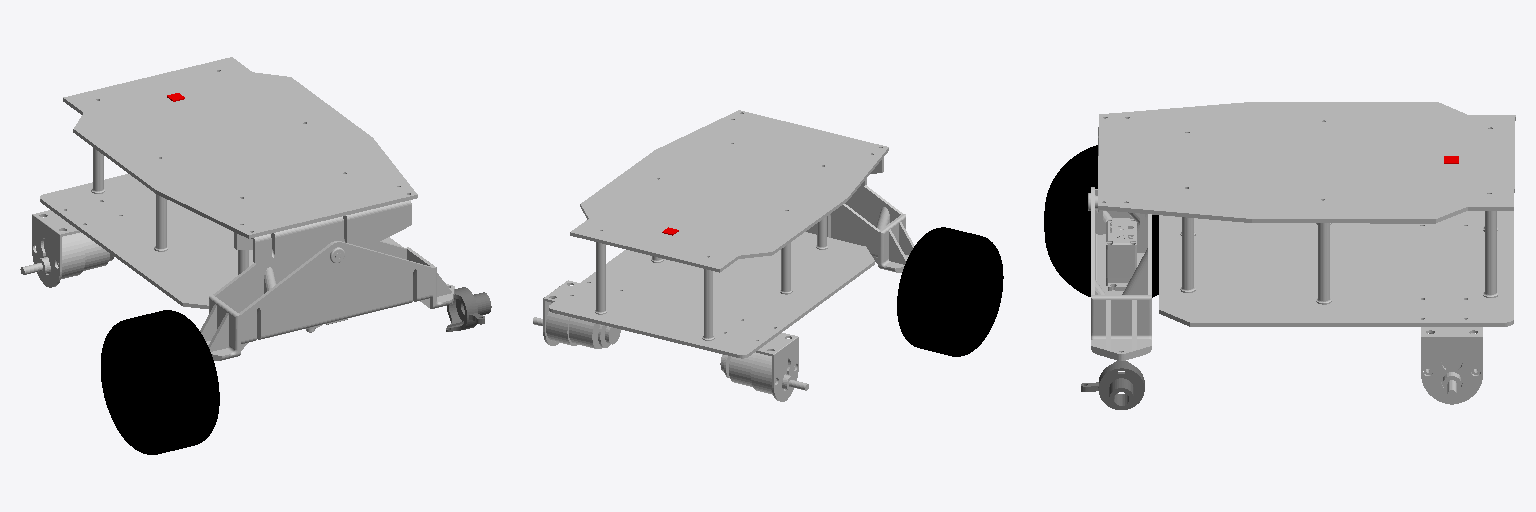
robot.urdf — Ackermann_robot:
<?xml version="1.0" ?>
<!-- =================================================================================== -->
<!-- |    This document was autogenerated by xacro from Ackermann_robot.urdf.xacro     | -->
<!-- |    EDITING THIS FILE BY HAND IS NOT RECOMMENDED                                 | -->
<!-- =================================================================================== -->
<robot name="Ackermann_robot">
  <!--<link name="base_link" />-->
  <!--<xacro:macro name="chassi_link" params="name">-->
  <!--</xacro:macro>-->
  <!--<xacro:chassi_link name="chassi_link"/>-->
  <material name="base_color">
    <color rgba="0.8 0.8 0.8 1.0"/>
  </material>
  <link name="base_link"/>
  <link name="chassi_link">
    <inertial>
      <origin rpy="0 0 0" xyz="0 0 0"/>
      <mass value="2.0"/>
      <inertia ixx="0.001" ixy="0" ixz="0" iyy="0.001" iyz="0" izz="0.001"/>
    </inertial>
    <visual name="Base">
      <origin rpy="0 -3.14159 -0.00587" xyz="-0.00055 -0.06897 0.06435"/>
      <geometry>
        <mesh filename="package://ackermann_vehicle_description/robot/meshes/stl/Base.stl" scale="1.0 1.0 1.0"/>
      </geometry>
      <material name="base_color"/>
    </visual>
    <collision name="Base_col">
      <origin rpy="0 3.14159 -0.00587" xyz="-0.00102 -0.09748 0.0092"/>
      <geometry>
        <box size="0.22043 0.27703 0.12452"/>
      </geometry>
    </collision>
  </link>
  <link name="base_link_front">
    </link>
  <joint name="chassi_link_joint" type="fixed">
    <origin rpy="0 0 0" xyz="0 0 0"/>
    <parent link="base_link"/>
    <child link="chassi_link"/>
  </joint>
  <joint name="base_link_front_joint" type="fixed">
    <origin rpy="0 0 0" xyz="0 -0.21396 0"/>
    <parent link="base_link"/>
    <child link="base_link_front"/>
  </joint>
  <material name="pneu_color">
    <color rgba="0.0 0.0 0.0 1.0"/>
  </material>
  <link name="link_wheel_front_left">
    <inertial>
      <origin rpy="0 0 0" xyz="0 0 0"/>
      <mass value="0.15"/>
      <inertia ixx="0.001" ixy="0" ixz="0" iyy="0.001" iyz="0" izz="0.001"/>
    </inertial>
    <visual name="wheel_front_left">
      <origin rpy="-1.57081 2e-05 -2.01041" xyz="0 0 0"/>
      <geometry>
        <mesh filename="package://ackermann_vehicle_description/robot/meshes/stl/wheel_front_left.stl" scale="1.0 1.0 1.0"/>
      </geometry>
      <material name="pneu_color"/>
    </visual>
    <collision name="wheel_front_left_col">
      <origin rpy="-1e-05 2e-05 -2.01041" xyz="0 0 0"/>
      <geometry>
        <cylinder length="0.05" radius="0.05"/>
      </geometry>
    </collision>
  </link>
  <link name="link_wheel_front_right">
    <inertial>
      <origin rpy="0 0 0" xyz="0 0 0"/>
      <mass value="0.15"/>
      <inertia ixx="0.001" ixy="0" ixz="0" iyy="0.001" iyz="0" izz="0.001"/>
    </inertial>
    <visual name="wheel_front_right">
      <origin rpy="-1.57079 -2e-05 -2.01041" xyz="0 0 0"/>
      <geometry>
        <mesh filename="package://ackermann_vehicle_description/robot/meshes/stl/wheel_front_right.stl" scale="1.0 1.0 1.0"/>
      </geometry>
      <material name="pneu_color"/>
    </visual>
    <collision name="wheel_front_right_col">
      <origin rpy="1e-05 -2e-05 -2.01041" xyz="0 0 0"/>
      <geometry>
        <cylinder length="0.05" radius="0.05"/>
      </geometry>
    </collision>
  </link>
  <link name="link_wheel_rear_left">
    <inertial>
      <origin rpy="0 0 0" xyz="0 0 0"/>
      <mass value="0.15"/>
      <inertia ixx="0.001" ixy="0" ixz="0" iyy="0.001" iyz="0" izz="0.001"/>
    </inertial>
    <visual name="wheel_rear_left">
      <origin rpy="-1.5708 0 1.47321" xyz="0 0 0"/>
      <geometry>
        <mesh filename="package://ackermann_vehicle_description/robot/meshes/stl/wheel_rear_left.stl" scale="1.0 1.0 1.0"/>
      </geometry>
      <material name="pneu_color"/>
    </visual>
    <collision name="wheel_rear_left_col">
      <origin rpy="0 0 1.47321" xyz="0 0 0"/>
      <geometry>
        <cylinder length="0.05" radius="0.05"/>
      </geometry>
    </collision>
  </link>
  <link name="link_wheel_rear_right">
    <inertial>
      <origin rpy="0 0 0" xyz="0 0 0"/>
      <mass value="0.15"/>
      <inertia ixx="0.001" ixy="0" ixz="0" iyy="0.001" iyz="0" izz="0.001"/>
    </inertial>
    <visual name="wheel_rear_right">
      <origin rpy="-1.5708 0 -1.61495" xyz="0 0 0"/>
      <geometry>
        <mesh filename="package://ackermann_vehicle_description/robot/meshes/stl/wheel_rear_right.stl" scale="1.0 1.0 1.0"/>
      </geometry>
      <material name="pneu_color"/>
    </visual>
    <collision name="wheel_rear_right_col">
      <origin rpy="0 0 -1.61495" xyz="0 0 0"/>
      <geometry>
        <cylinder length="0.05" radius="0.05"/>
      </geometry>
    </collision>
  </link>
  <!--<link name="link_wheel_front_left">
      <inertial>
        <origin xyz="0 0 0" rpy="0 0 0"/>
        <mass value="0.15"/>
        <inertia ixx="0.001" ixy="0" ixz="0" iyy="0.001" iyz="0" izz="0.001"/>
      </inertial>
      <visual name="wheel_front_left">
        <origin xyz="0 0 0" rpy="-1.57081 2e-05 -2.01041"/>
        <geometry>
          <mesh filename="package://urdf_tutorial/robot/meshes/stl/wheel_front_left.stl" scale="1.0 1.0 1.0"/>
        </geometry>
        <material name="pneu_color"/>
      </visual>
      <collision name="wheel_front_left">
        <origin xyz="0 0 0" rpy="-1e-05 2e-05 -2.01041"/>
        <geometry>
          <cylinder radius="0.05" length="0.05"/>
        </geometry>
      </collision>
    </link>

    <link name="link_wheel_front_right">
      <inertial>
        <origin xyz="0 0 0" rpy="0 0 0"/>
        <mass value="0.15"/>
        <inertia ixx="0.001" ixy="0" ixz="0" iyy="0.001" iyz="0" izz="0.001"/>
      </inertial>
      <visual name="wheel_front_right">
        <origin xyz="0 0 0" rpy="-1.57079 -2e-05 -2.01041"/>
        <geometry>
          <mesh filename="package://urdf_tutorial/robot/meshes/stl/wheel_front_right.stl" scale="1.0 1.0 1.0"/>
        </geometry>
        <material name="pneu_color"/>
      </visual>
      <collision name="wheel_front_right">
        <origin xyz="0 0 0" rpy="1e-05 -2e-05 -2.01041"/>
        <geometry>
          <cylinder radius="0.05" length="0.05"/>
        </geometry>
      </collision>
    </link>

    <link name="link_wheel_rear_left">
      <inertial>
        <origin xyz="0 0 0" rpy="0 0 0"/>
        <mass value="0.15"/>
        <inertia ixx="0.001" ixy="0" ixz="0" iyy="0.001" iyz="0" izz="0.001"/>
      </inertial>
      <visual name="wheel_rear_left">
        <origin xyz="0 0 0" rpy="-1.5708 0 1.47321"/>
        <geometry>
          <mesh filename="package://urdf_tutorial/robot/meshes/stl/wheel_rear_left.stl" scale="1.0 1.0 1.0"/>
        </geometry>
        <material name="pneu_color"/>
      </visual>
      <collision name="wheel_rear_left">
        <origin xyz="0 0 0" rpy="0 0 1.47321"/>
        <geometry>
          <cylinder radius="0.05" length="0.05"/>
        </geometry>
      </collision>
    </link>

    <link name="link_wheel_rear_right">
      <inertial>
        <origin xyz="0 0 0" rpy="0 0 0"/>
        <mass value="0.15"/>
        <inertia ixx="0.001" ixy="0" ixz="0" iyy="0.001" iyz="0" izz="0.001"/>
      </inertial>
      <visual name="wheel_rear_right">
        <origin xyz="0 0 0" rpy="-1.5708 0 -1.61495"/>
        <geometry>
          <mesh filename="package://urdf_tutorial/robot/meshes/stl/wheel_rear_right.stl" scale="1.0 1.0 1.0"/>
        </geometry>
        <material name="pneu_color"/>
      </visual>
      <collision name="wheel_rear_right">
        <origin xyz="0 0 0" rpy="0 0 -1.61495"/>
        <geometry>
          <cylinder radius="0.05" length="0.05"/>
        </geometry>
      </collision>
    </link>-->
  <joint name="joint_wheel_front_left" type="continuous">
    <origin rpy="0 1.5708 0" xyz="0.03048 0 0"/>
    <parent link="link_acker_front_left"/>
    <child link="link_wheel_front_left"/>
    <axis xyz="0 0 1.0"/>
    <limit effort="1.0" velocity="100.0"/>
  </joint>
  <joint name="joint_wheel_front_right" type="continuous">
    <origin rpy="0 -1.5708 0" xyz="-0.03049 0 0"/>
    <parent link="link_acker_front_right"/>
    <child link="link_wheel_front_right"/>
    <axis xyz="0 0 1.0"/>
    <limit effort="1.0" velocity="100.0"/>
  </joint>
  <joint name="joint_wheel_rear_left" type="continuous">
    <origin rpy="0 1.5708 0" xyz="0.13691 0.00033 -0.0371"/>
    <parent link="base_link"/>
    <child link="link_wheel_rear_left"/>
    <axis xyz="0 0 1.0"/>
    <limit effort="1.0" velocity="100.0"/>
  </joint>
  <joint name="joint_wheel_rear_right" type="continuous">
    <origin rpy="0 -1.5708 0" xyz="-0.13691 0.00033 -0.0371"/>
    <parent link="base_link"/>
    <child link="link_wheel_rear_right"/>
    <axis xyz="0 0 1.0"/>
    <limit effort="1.0" velocity="100.0"/>
  </joint>
  <!--<joint name="joint_wheel_front_left" type="continuous">
      <origin xyz="0.03048 0 0" rpy="0 1.5708 0"/>
      <parent link="link_acker_front_left"/>
      <child link="link_wheel_front_left"/>
      <axis xyz="0 0 1.0"/>
      <limit effort="1.0" velocity="100.0"/>
    </joint>

    <joint name="joint_wheel_front_right" type="continuous">
      <origin xyz="-0.03049 0 0" rpy="0 -1.5708 0"/>
      <parent link="link_acker_front_right"/>
      <child link="link_wheel_front_right"/>
      <axis xyz="0 0 1.0"/>
      <limit effort="1.0" velocity="100.0"/>
    </joint>

    <joint name="joint_wheel_rear_left" type="continuous">
      <origin xyz="0.13691 0.00033 -0.0371" rpy="0 1.5708 0"/>
      <parent link="base_link"/>
      <child link="link_wheel_rear_left"/>
      <axis xyz="0 0 1.0"/>
      <limit effort="1.0" velocity="100.0"/>
    </joint>

    <joint name="joint_wheel_rear_right" type="continuous">
      <origin xyz="-0.13691 0.00033 -0.0371" rpy="0 -1.5708 0"/>
      <parent link="base_link"/>
      <child link="link_wheel_rear_right"/>
      <axis xyz="0 0 1.0"/>
      <limit effort="1.0" velocity="100.0"/>
    </joint>-->
  <material name="link_roda_color">
    <color rgba="0.5 0.5 0.5 1.0"/>
  </material>
  <link name="link_acker_front_left">
    <inertial>
      <origin rpy="0 0 0" xyz="0 0 0"/>
      <mass value="0.15"/>
      <inertia ixx="0.002" ixy="0" ixz="0" iyy="0.002" iyz="0" izz="0.002"/>
    </inertial>
    <visual name="encaixe_front_left">
      <origin rpy="0 3.14159 -2e-05" xyz="0.03048 0 0"/>
      <geometry>
        <mesh filename="package://ackermann_vehicle_description/robot/meshes/stl/encaixe_front_left.stl" scale="1.0 1.0 1.0"/>
      </geometry>
      <material name="link_roda_color"/>
    </visual>
  </link>
  <link name="link_acker_front_right">
    <inertial>
      <origin rpy="0 0 0" xyz="0 0 0"/>
      <mass value="0.15"/>
      <inertia ixx="0.002" ixy="0" ixz="0" iyy="0.002" iyz="0" izz="0.002"/>
    </inertial>
    <visual name="encaixe_front_right">
      <origin rpy="0 0 -2e-05" xyz="-0.03049 0 0"/>
      <geometry>
        <mesh filename="package://ackermann_vehicle_description/robot/meshes/stl/encaixe_front_right.stl" scale="1.0 1.0 1.0"/>
      </geometry>
      <material name="link_roda_color"/>
    </visual>
  </link>
  <joint name="joint_acker_front_left" type="revolute">
    <origin rpy="0 0 0" xyz="0.10378 -0.21397 -0.0371"/>
    <parent link="base_link"/>
    <child link="link_acker_front_left"/>
    <axis xyz="0 0 1.0"/>
    <limit effort="5.0" lower="-3.14" upper="3.14" velocity="15.0"/>
  </joint>
  <joint name="joint_acker_front_right" type="revolute">
    <origin rpy="0 0 0" xyz="-0.10624 -0.21396 -0.0371"/>
    <parent link="base_link"/>
    <child link="link_acker_front_right"/>
    <axis xyz="0 0 1.0"/>
    <limit effort="5.0" lower="-3.14" upper="3.14" velocity="15.0"/>
  </joint>
  <material name="imu_color">
    <color rgba="1.0 0.0 0.0 1.0"/>
  </material>
  <link name="imu_link">
    <inertial>
      <origin rpy="0 0 0" xyz="0 0 0"/>
      <mass value="0.001"/>
      <inertia ixx="0.000001" ixy="0" ixz="0" iyy="0.000001" iyz="0" izz="0.000001"/>
    </inertial>
    <visual name="imu">
      <origin rpy="0 0 0" xyz="0 0 0.0005"/>
      <geometry>
        <box size="0.01 0.01 0.001"/>
      </geometry>
      <material name="imu_color"/>
    </visual>
    <collision name="imu_col">
      <origin rpy="0 0 0" xyz="0 0 0.0005"/>
      <geometry>
        <box size="0.01 0.01 0.001"/>
      </geometry>
    </collision>
  </link>
  <joint name="imu_joint" type="fixed">
    <origin rpy="0 0 0" xyz="0 0 0.07077"/>
    <parent link="base_link"/>
    <child link="imu_link"/>
  </joint>
  <!--transmissões dos tornos-->
  <transmission name="acker_front_left_trans">
    <type>transmission_interface/SimpleTransmission</type>
    <actuator name="$acker_front_left_servo">
      <hardwareInterface>hardware_interface/EffortJointInterface</hardwareInterface>
      <mechanicalReduction>1</mechanicalReduction>
    </actuator>
    <joint name="joint_acker_front_left">
      <hardwareInterface>hardware_interface/EffortJointInterface</hardwareInterface>
    </joint>
  </transmission>
  <transmission name="acker_front_right_trans">
    <type>transmission_interface/SimpleTransmission</type>
    <actuator name="$acker_front_right_servo">
      <hardwareInterface>hardware_interface/EffortJointInterface</hardwareInterface>
      <mechanicalReduction>1</mechanicalReduction>
    </actuator>
    <joint name="joint_acker_front_right">
      <hardwareInterface>hardware_interface/EffortJointInterface</hardwareInterface>
    </joint>
  </transmission>
  <gazebo reference="link_acker_front_left">
    <material>Gazebo/Black</material>
  </gazebo>
  <gazebo reference="link_acker_front_right">
    <material>Gazebo/Black</material>
  </gazebo>
  <gazebo reference="imu_link">
    <visual>
      <material>
        <script>
          <uri>file:/[local-path]/scripts/gazebo.material</uri>
          <name>Gazebo/Black</name>
        </script>
        <emissive>0 0 0 1</emissive>
      </material>
    </visual>
  </gazebo>
  <!--transmissões das rodas-->
  <transmission name="front_left_wheel_trans">
    <type>transmission_interface/SimpleTransmission</type>
    <actuator name="front_left_wheel_motor">
      <hardwareInterface>hardware_interface/EffortJointInterface</hardwareInterface>
      <mechanicalReduction>1</mechanicalReduction>
    </actuator>
    <joint name="joint_wheel_front_left">
      <hardwareInterface>hardware_interface/EffortJointInterface</hardwareInterface>
    </joint>
  </transmission>
  <gazebo reference="link_wheel_front_left">
    <mu1 value="200.0"/>
    <mu2 value="100.0"/>
    <kp value="10000000.0"/>
    <kd value="1.0"/>
    <material>Gazebo/Black</material>
  </gazebo>
  <transmission name="front_right_wheel_trans">
    <type>transmission_interface/SimpleTransmission</type>
    <actuator name="front_right_wheel_motor">
      <hardwareInterface>hardware_interface/EffortJointInterface</hardwareInterface>
      <mechanicalReduction>1</mechanicalReduction>
    </actuator>
    <joint name="joint_wheel_front_right">
      <hardwareInterface>hardware_interface/EffortJointInterface</hardwareInterface>
    </joint>
  </transmission>
  <gazebo reference="link_wheel_front_right">
    <mu1 value="200.0"/>
    <mu2 value="100.0"/>
    <kp value="10000000.0"/>
    <kd value="1.0"/>
    <material>Gazebo/Black</material>
  </gazebo>
  <transmission name="rear_left_wheel_trans">
    <type>transmission_interface/SimpleTransmission</type>
    <actuator name="rear_left_wheel_motor">
      <hardwareInterface>hardware_interface/EffortJointInterface</hardwareInterface>
      <mechanicalReduction>1</mechanicalReduction>
    </actuator>
    <joint name="joint_wheel_rear_left">
      <hardwareInterface>hardware_interface/EffortJointInterface</hardwareInterface>
    </joint>
  </transmission>
  <gazebo reference="link_wheel_rear_left">
    <mu1 value="200.0"/>
    <mu2 value="100.0"/>
    <kp value="10000000.0"/>
    <kd value="1.0"/>
    <material>Gazebo/Black</material>
  </gazebo>
  <transmission name="rear_right_wheel_trans">
    <type>transmission_interface/SimpleTransmission</type>
    <actuator name="rear_right_wheel_motor">
      <hardwareInterface>hardware_interface/EffortJointInterface</hardwareInterface>
      <mechanicalReduction>1</mechanicalReduction>
    </actuator>
    <joint name="joint_wheel_rear_right">
      <hardwareInterface>hardware_interface/EffortJointInterface</hardwareInterface>
    </joint>
  </transmission>
  <gazebo reference="link_wheel_rear_right">
    <mu1 value="200.0"/>
    <mu2 value="100.0"/>
    <kp value="10000000.0"/>
    <kd value="1.0"/>
    <material>Gazebo/Black</material>
  </gazebo>
  <gazebo>
    <plugin filename="libgazebo_ros_control.so" name="gazebo_ros_control">
      <robotNamespace>/</robotNamespace>
      <robotSimType>gazebo_ros_control/DefaultRobotHWSim</robotSimType>
    </plugin>
  </gazebo>
</robot>

--- Render facts (derived) ---
3 views of the same robot in one strip: view 1: azimuth 30°, elevation 25°; view 2: azimuth 150°, elevation 25°; view 3: azimuth 270°, elevation 25° (orthographic).
Model Ackermann_robot with 10 links and 9 joints (2 revolute, 4 continuous, 3 fixed), rooted at base_link, posed all joints at 0.
Links seen in each view (by area): view 1: chassi_link, link_wheel_front_right, link_acker_front_left; view 2: chassi_link, link_wheel_front_right; view 3: chassi_link, link_wheel_front_right, link_acker_front_left.
Link boxes in pixels (x1,y1,x2,y2): chassi_link: (20,57,454,360); link_wheel_front_right: (101,310,219,454); link_acker_front_left: (446,287,491,331); chassi_link: (533,110,913,401); link_wheel_front_right: (897,227,1003,356); chassi_link: (1088,102,1515,404); link_wheel_front_right: (1044,145,1158,297); link_acker_front_left: (1081,361,1144,409).
Bounding box of the posed robot: 0.296 × 0.3054 × 0.1589 m (x, y, z).
3 mesh visuals loaded from 7 distinct referenced files (3 binary STL); not drawn: 4 (reference not matched to a file when rendering).